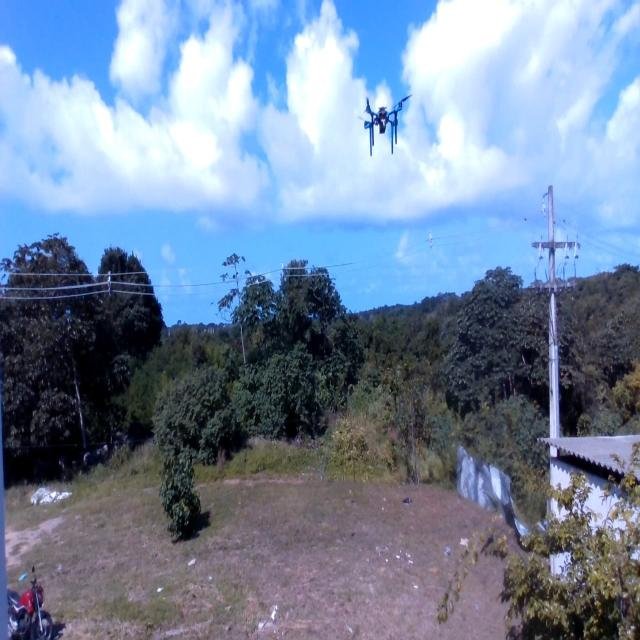-uav-: (350, 86, 418, 167)
